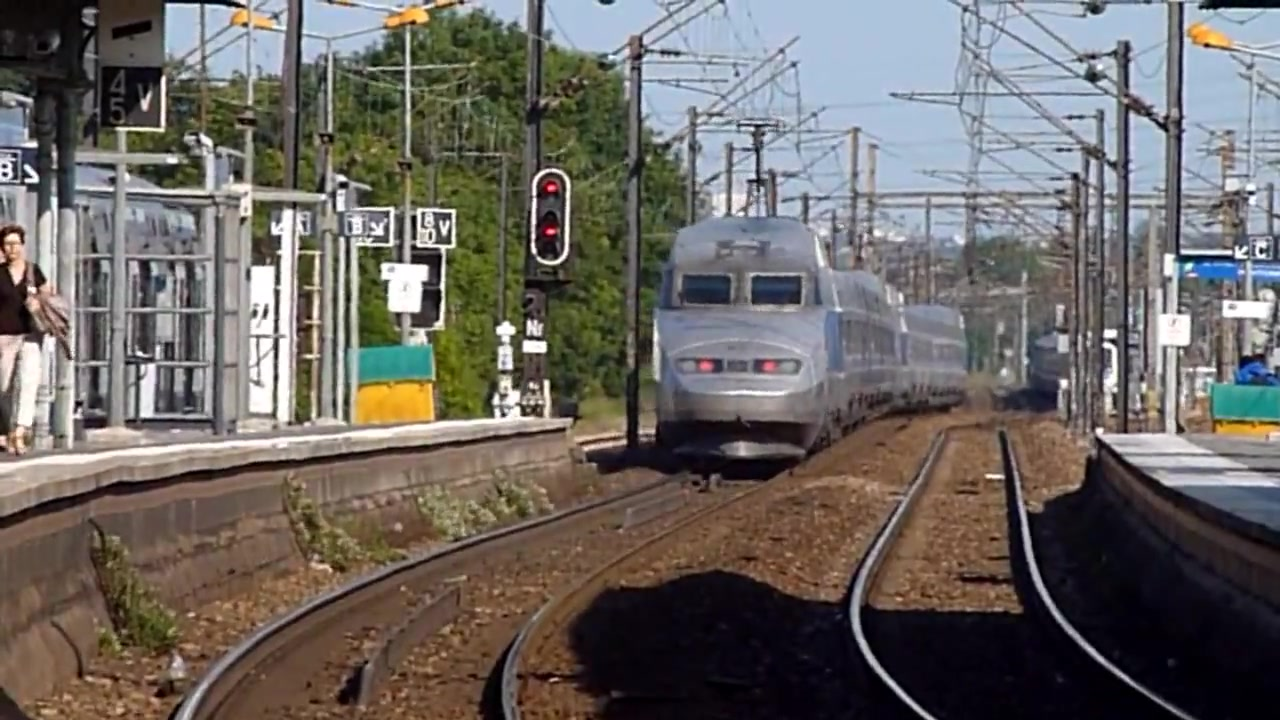train: (649, 214, 975, 473)
